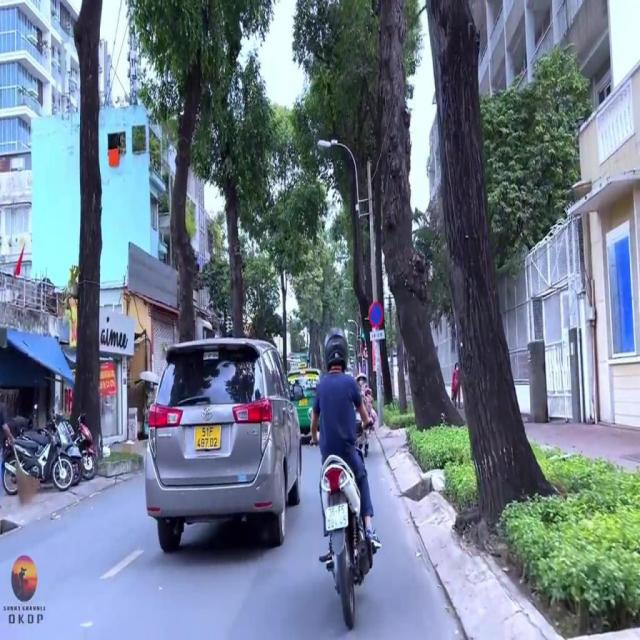cam_do_xe: (368, 301, 384, 329)
cam_re_phai: (363, 347, 369, 360)
khac: (370, 330, 384, 342)
